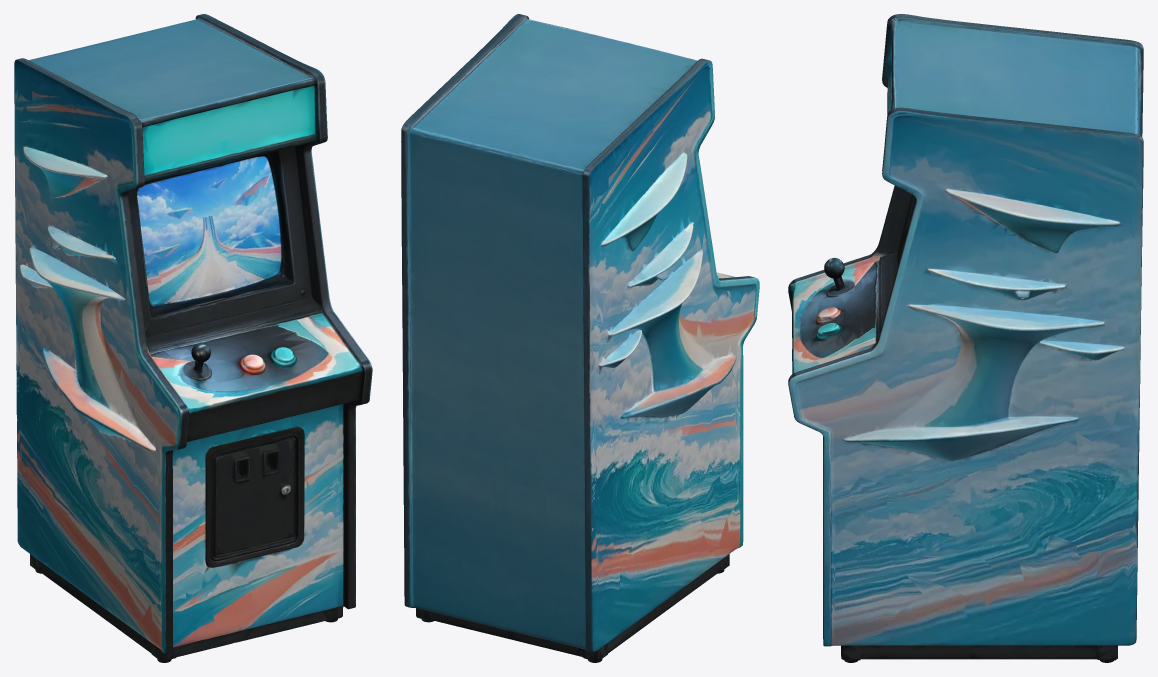
The model's file is cab-surf.glb.
3 renders of one model, left to right at view 1: azimuth 30°, elevation 25°; view 2: azimuth 150°, elevation 25°; view 3: azimuth 270°, elevation 25°, orthographic. The views are drawn at different scales.
Visible parts, largest first — view 1: tripo_node_b58e5fdf-fdba-4892-9a50-1ec9eb947ddd; view 2: tripo_node_b58e5fdf-fdba-4892-9a50-1ec9eb947ddd; view 3: tripo_node_b58e5fdf-fdba-4892-9a50-1ec9eb947ddd.
Boxes of the visible parts, x1,y1,x2,y2 form: tripo_node_b58e5fdf-fdba-4892-9a50-1ec9eb947ddd: (14,14,372,662); tripo_node_b58e5fdf-fdba-4892-9a50-1ec9eb947ddd: (401,14,759,662); tripo_node_b58e5fdf-fdba-4892-9a50-1ec9eb947ddd: (788,14,1143,662).
Size of the model in its own units: 0.4919 by 0.9787 by 0.5684.
1 material, 1 textured.
